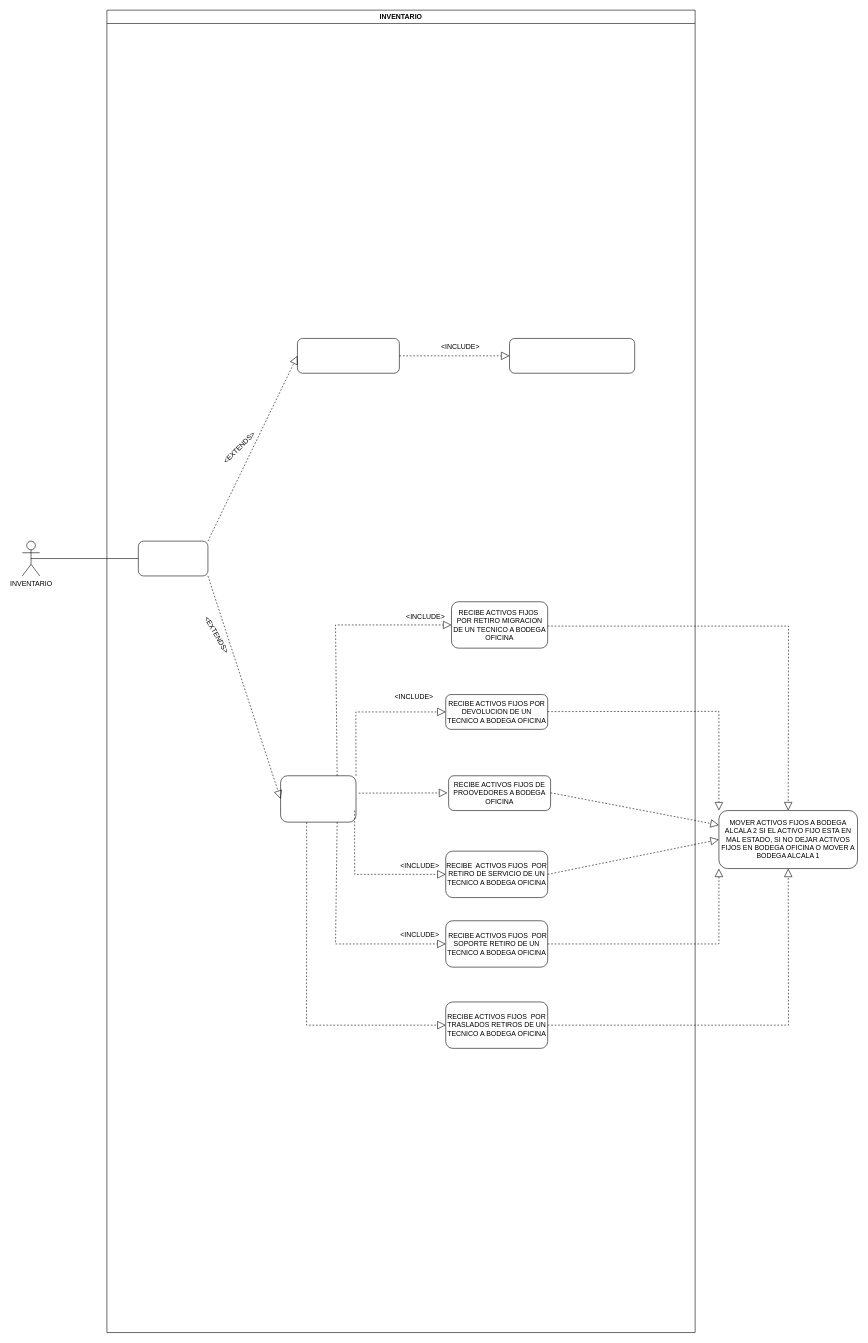
Some shapes in this 868 by 1343 pixel diagram are drawn without their labels. The shapes that lost their labels are listed below. From the top down, each one's centre as x and y in pixels, then its label:
At pixel 348 355: "SALIDA DE INVENTARIO DE BODEGA OFICINA O DE BODEGA ALCALA 1".
At pixel 572 355: "ENVIA ACTIVOS FIJOS A TECNICOS YA SEA DE BODEGA OFICINA O DE BODEGA ALCALA1".
At pixel 173 558: "GESTIONAR ONTS".
At pixel 318 798: "INGRESO DE INVENTARIO A BODEGA OFICINA".
